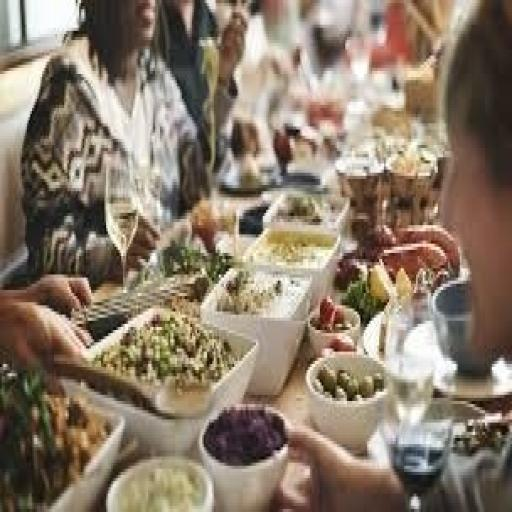eating: (285, 0, 510, 509)
